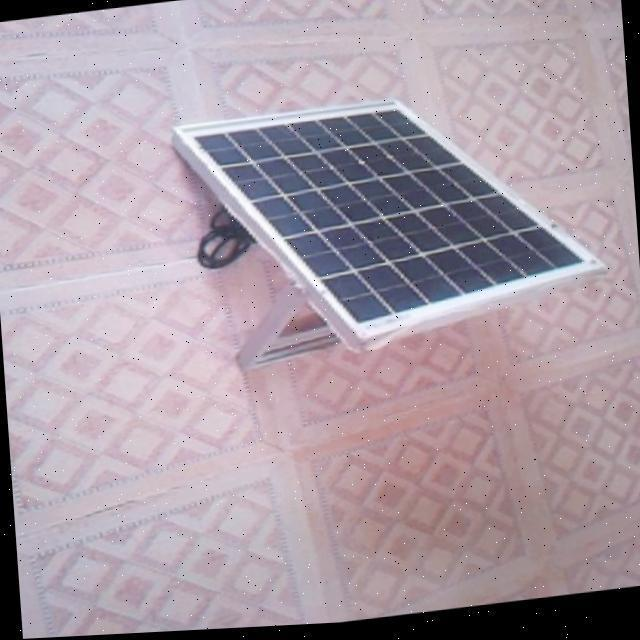Normal Solar Panel: (176, 81, 606, 372)
